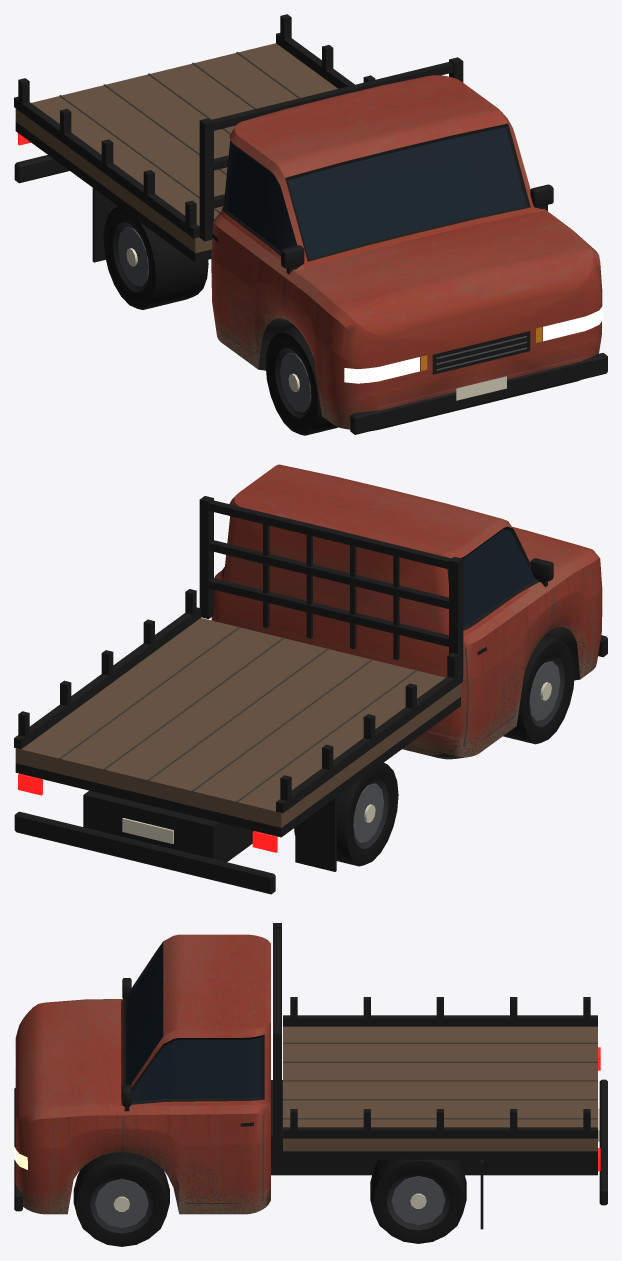
Rendered from delivery-flat.glb.
3 renders of one model, top to bottom at view 1: azimuth 30°, elevation 25°; view 2: azimuth 150°, elevation 25°; view 3: azimuth 270°, elevation 25°, orthographic. The views are drawn at different scales.
Parts seen in each view (by area): view 1: body, wheel-back-right, wheel-front-right, wheel-back-right.1, wheel-front-right.1; view 2: body, wheel-back-right, wheel-front-right, wheel-back-right.1, wheel-front-right.1; view 3: body, wheel-front-left, wheel-back-left, wheel-front-left.1, wheel-back-left.1.
Part boxes in pixels (x1,y1,x2,y2): body: (14, 14, 607, 434); wheel-back-right: (103, 206, 208, 309); wheel-front-right: (265, 327, 338, 435); wheel-back-right.1: (113, 222, 148, 292); wheel-front-right.1: (275, 348, 311, 418); body: (14, 464, 607, 894); wheel-back-right: (294, 762, 398, 866); wheel-front-right: (503, 635, 574, 744); wheel-back-right.1: (353, 778, 388, 848); wheel-front-right.1: (529, 656, 564, 726); body: (14, 923, 607, 1229); wheel-front-left: (73, 1152, 169, 1246); wheel-back-left: (370, 1159, 466, 1243); wheel-front-left.1: (90, 1176, 153, 1233); wheel-back-left.1: (387, 1173, 449, 1230).
Size of the model in its own units: 1.49 by 1.29 by 3.24.
Materials: 13 (1 with a texture image).
